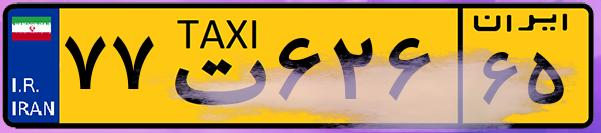2: (330, 28, 385, 110)
5: (525, 38, 570, 115)
6: (270, 28, 330, 110), (385, 28, 445, 110), (475, 38, 525, 113)
7: (57, 26, 110, 100), (110, 28, 158, 98)
ت: (158, 12, 270, 120)
